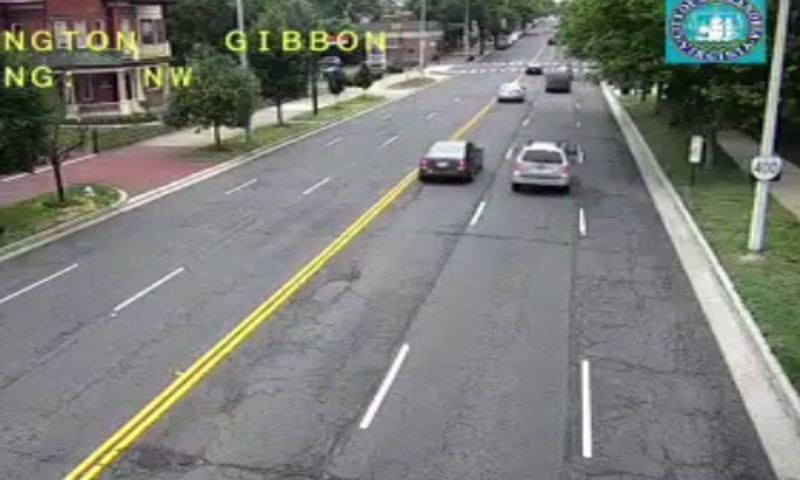car: (510, 142, 568, 186), (420, 141, 482, 178), (496, 82, 526, 101)
